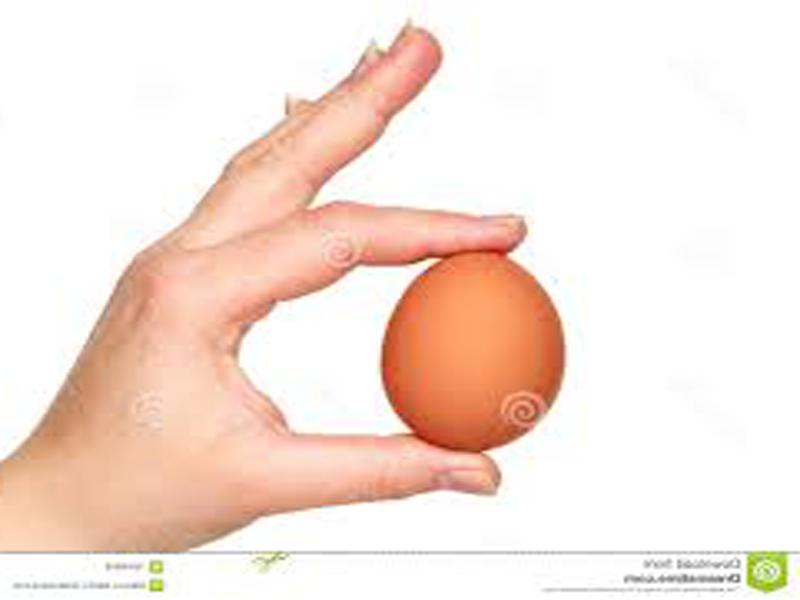Eggs: (377, 250, 567, 454)
